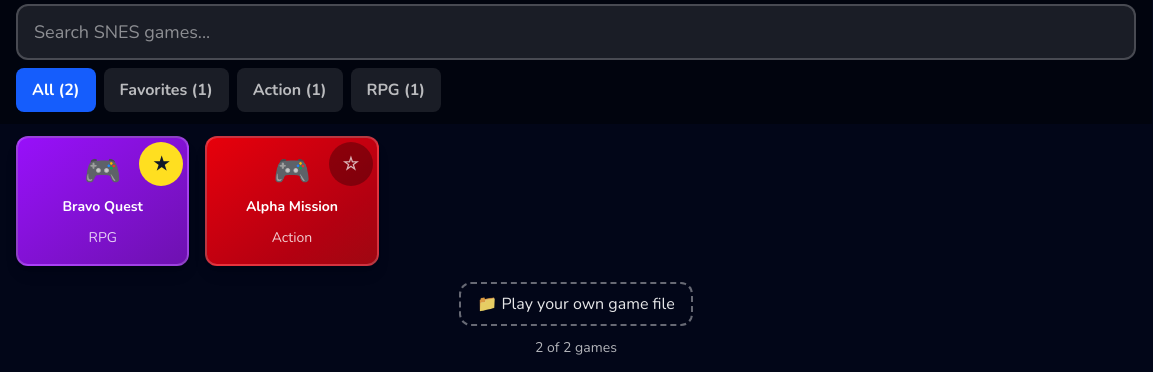
it: GameBrowser favorites › filters to persisted favorite games
Step 1. Click the button "Favorites (1)" → (166, 90), box [104,68,229,112]
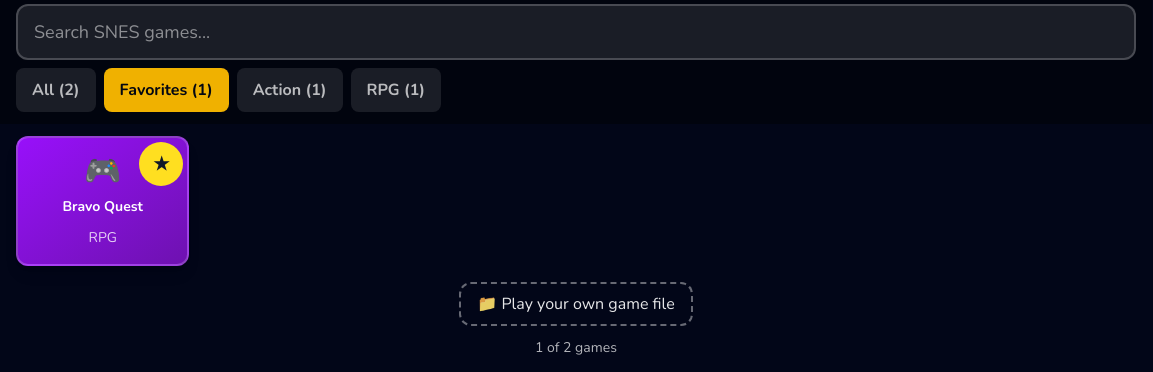
Expected: the heading "Bravo Quest" is shown, [62,198,143,216]
Expected: the button "Alpha Mission" is gone
